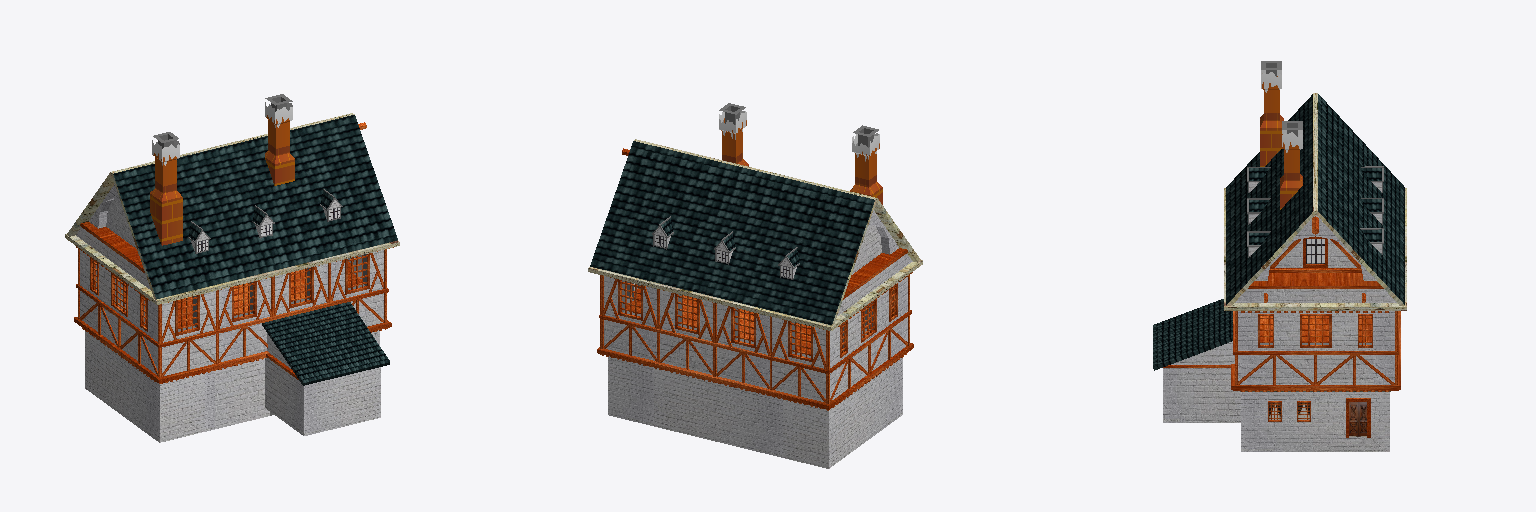
3 renders of one model, left to right at view 1: azimuth 30°, elevation 25°; view 2: azimuth 150°, elevation 25°; view 3: azimuth 270°, elevation 25°, orthographic.
Visible parts, largest first — view 1: Object.1; view 2: Object.1; view 3: Object.1.
Boxes of the visible parts, box(x1,y1,x2,y2) form: Object.1: box(65, 94, 399, 442); Object.1: box(588, 103, 922, 468); Object.1: box(1153, 61, 1406, 451).
Size of the model in its own units: 28.36 by 30.86 by 24.6.
9 materials, 8 textured.